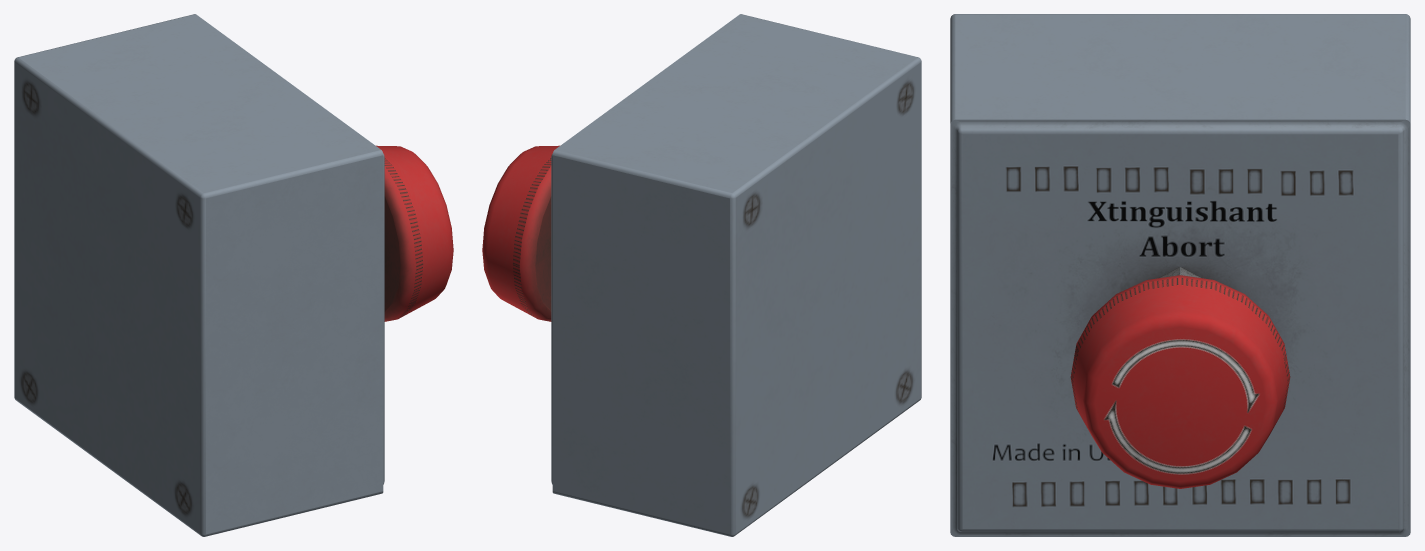
The model's file is Button.glb.
3 views of the same model, side by side, from view 1: azimuth 30°, elevation 25°; view 2: azimuth 150°, elevation 25°; view 3: azimuth 270°, elevation 25° (orthographic). The views are drawn at different scales.
Visible parts, largest first — view 1: Cube, Cylinder_1; view 2: Cube, Cylinder_1; view 3: Cube, Cylinder_1.
Boxes of the visible parts, box(x1,y1,x2,y2) form: Cube: box(14, 14, 384, 536); Cylinder_1: box(376, 145, 453, 321); Cube: box(551, 14, 921, 536); Cylinder_1: box(482, 145, 559, 321); Cube: box(950, 14, 1410, 536); Cylinder_1: box(1070, 267, 1290, 488).
Bounding box in the file's own units: 1.89 × 2 × 2.
Materials: 1 (1 with a texture image).
